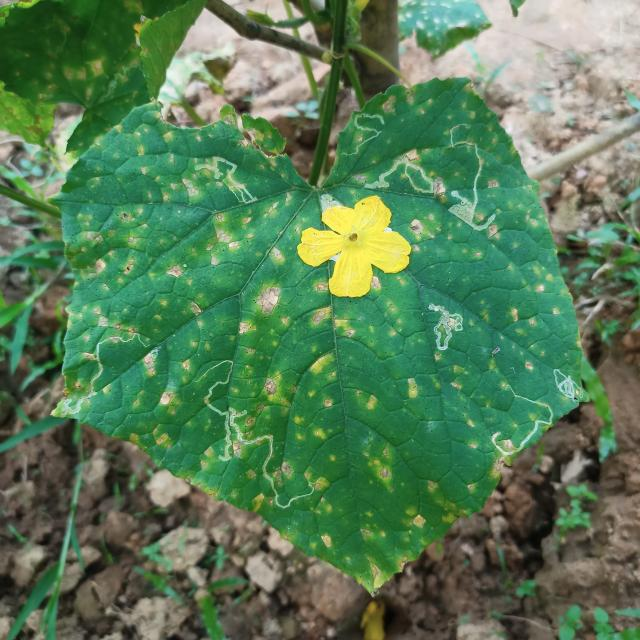disease_cucumber: (80, 103, 558, 577)
